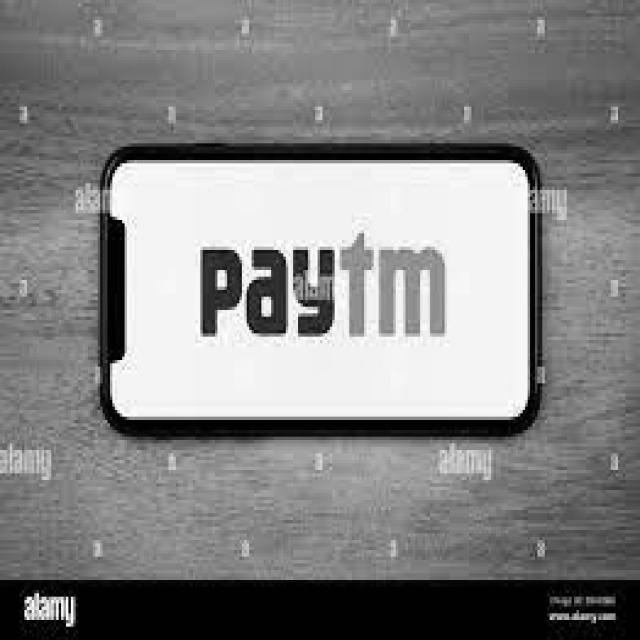fully_visible: (192, 222, 453, 350)
